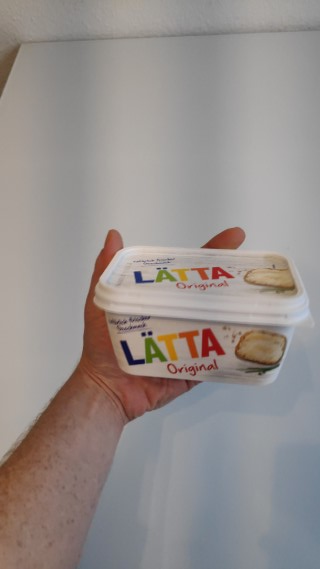laetta: (94, 243, 315, 390)
